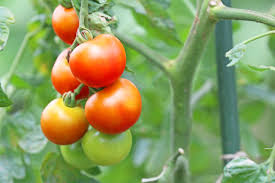tomato: (70, 35, 135, 91), (83, 83, 143, 134), (37, 99, 92, 147), (49, 47, 91, 101), (52, 2, 87, 47)
